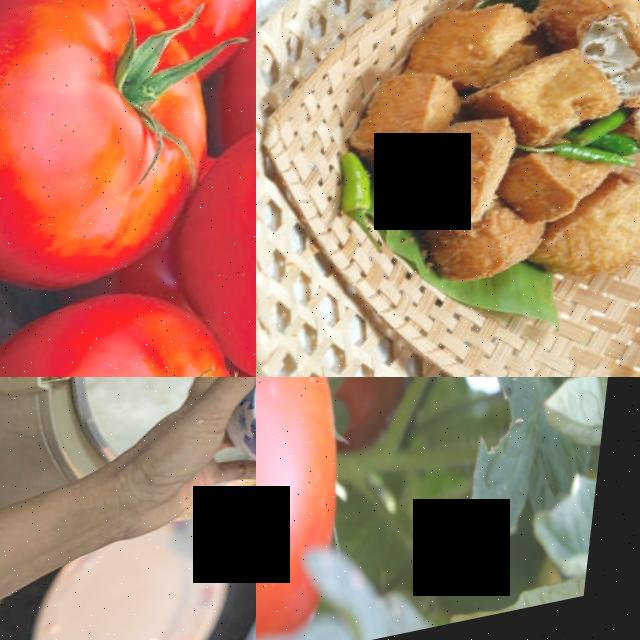tofu: (386, 111, 544, 237), (475, 40, 632, 144), (527, 166, 640, 286)
tomato: (0, 0, 256, 319), (143, 79, 256, 377)
